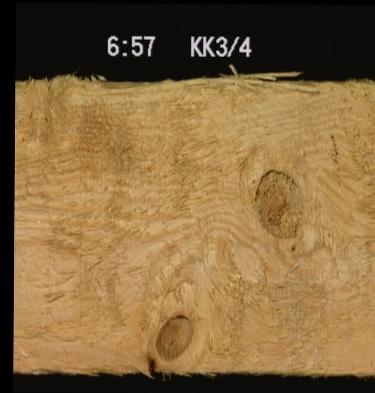dry_knot: (250, 165, 305, 240), (151, 311, 194, 360)
wave: (61, 74, 168, 97)
